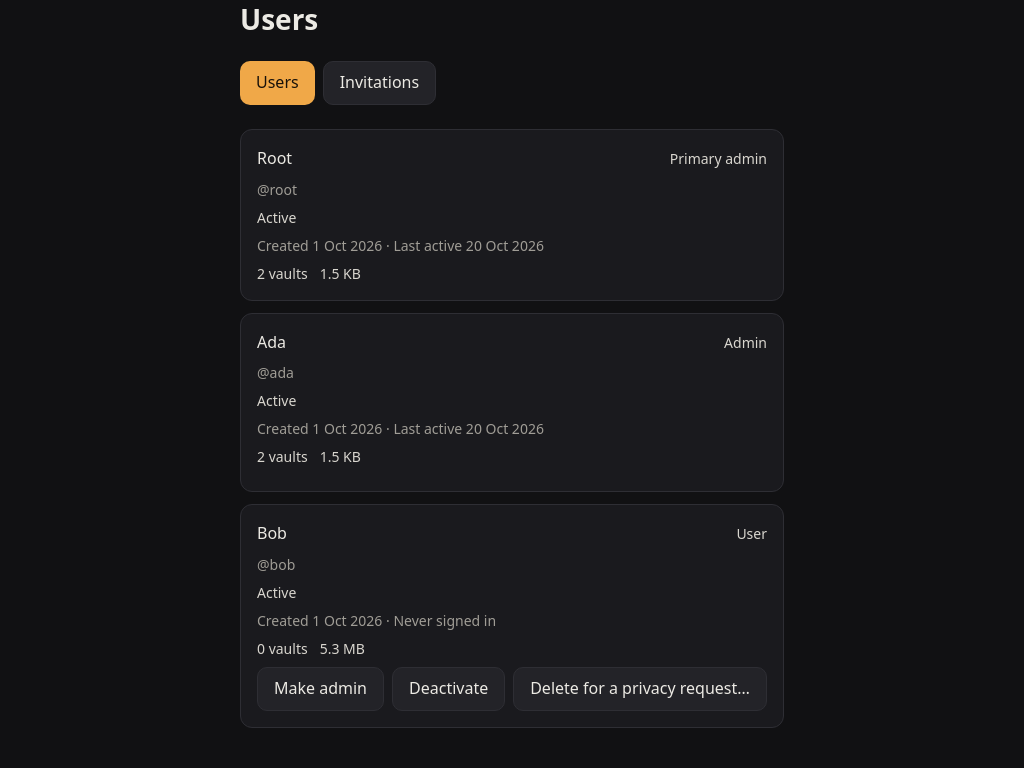
Test: Admin users › changes a role
(page scrolled)
Click the button with aria-label "Make Bob an admin" at (320, 689), box [257,667,384,711]
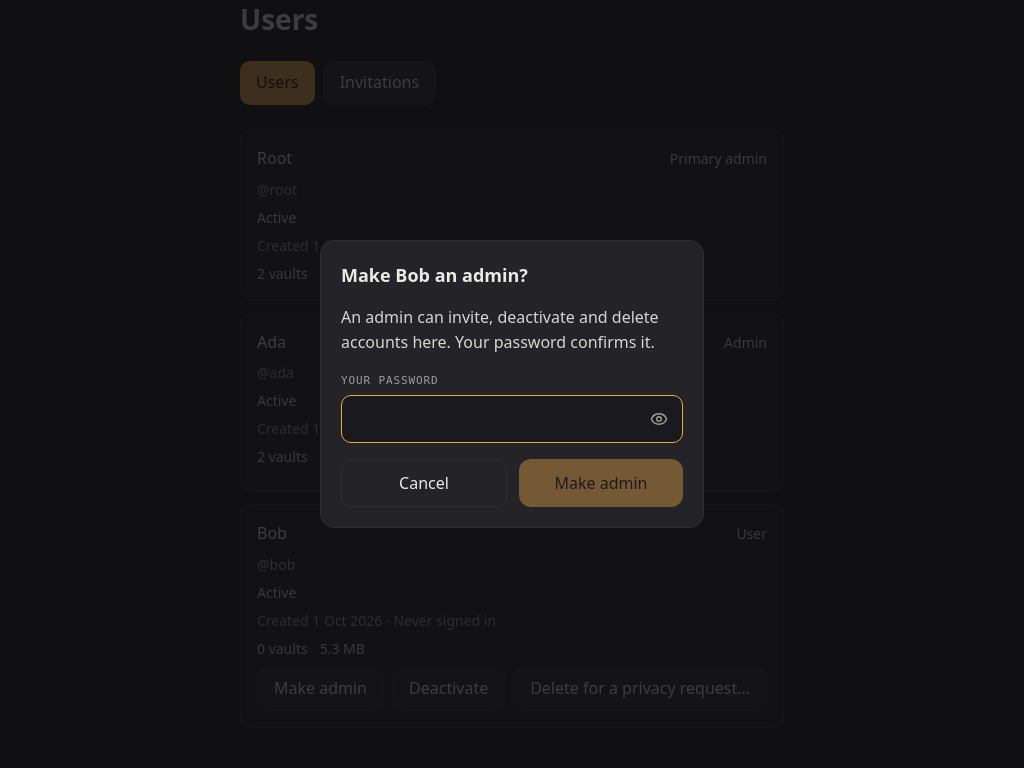
Check: the button "Make admin" is disabled, box [519,459,683,507]
Type "correct horse battery staple" into the password field labelled "Your password" at (512, 419), box [341,395,683,443]
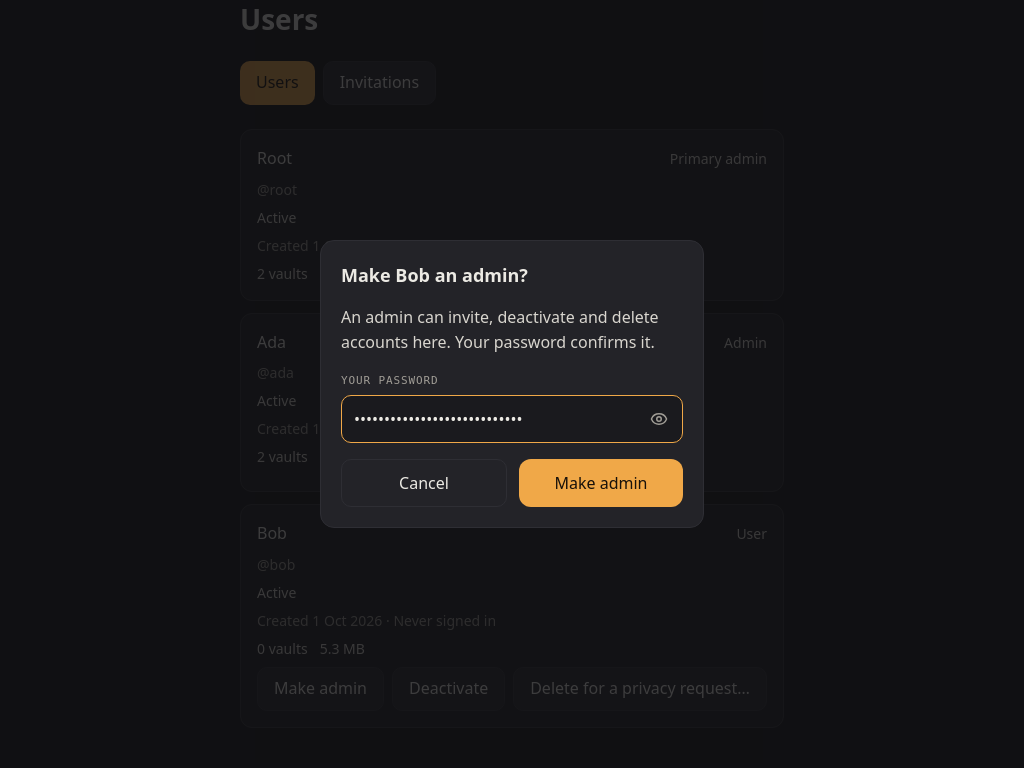
Click the button "Make admin" at (601, 483), box [519,459,683,507]
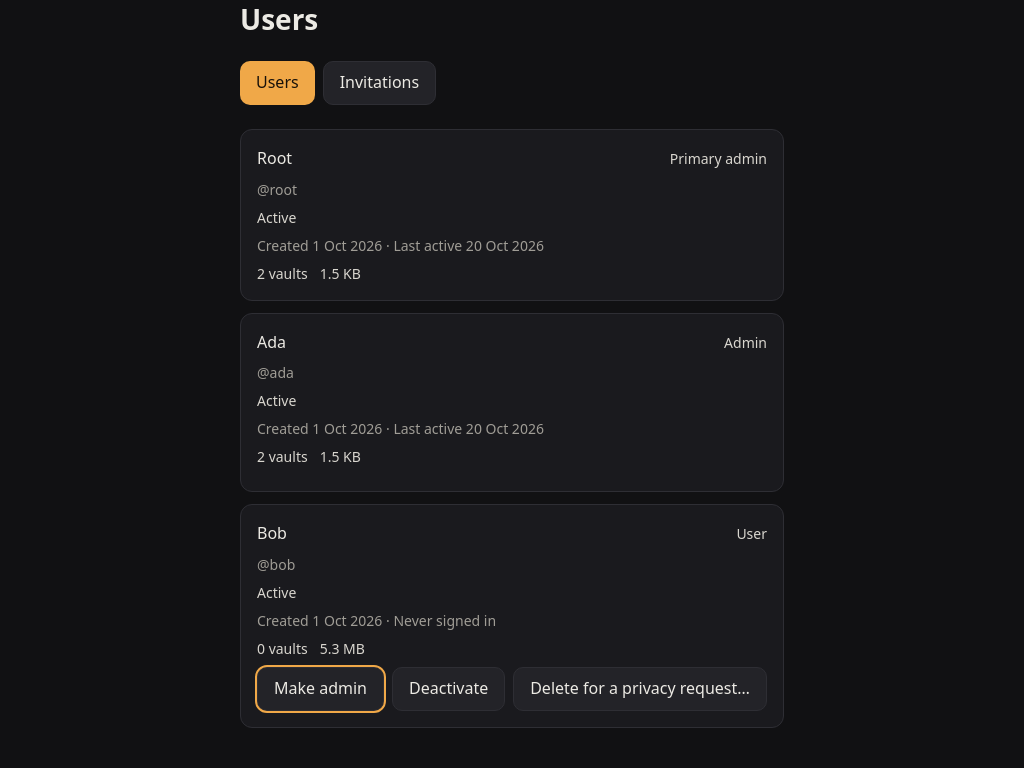
Check: the dialog is gone
